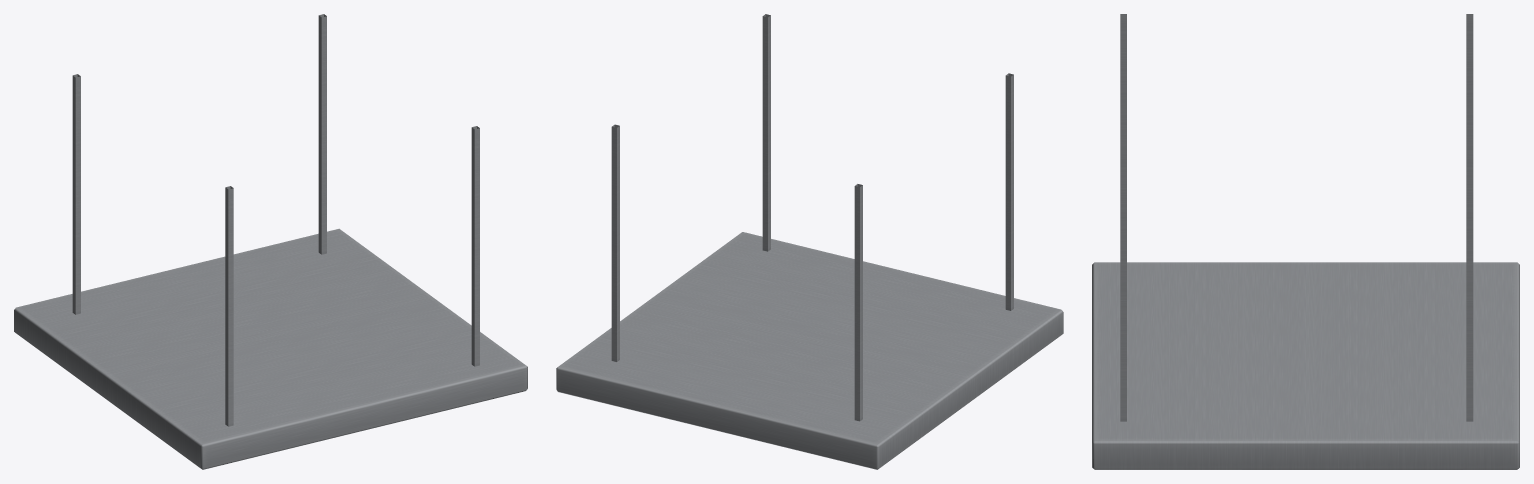
Rendered from HangingLight.fbx.
3 renders of one model, left to right at view 1: azimuth 30°, elevation 25°; view 2: azimuth 150°, elevation 25°; view 3: azimuth 270°, elevation 25°, orthographic. The views are drawn at different scales.
Visible parts, largest first — view 1: HangingLight; view 2: HangingLight; view 3: HangingLight.
Part boxes in pixels (x1,y1,x2,y2): HangingLight: (14, 14, 527, 469); HangingLight: (556, 14, 1063, 469); HangingLight: (1092, 14, 1519, 469).
Size of the model in its own units: 94.36 by 72.52 by 94.36.
